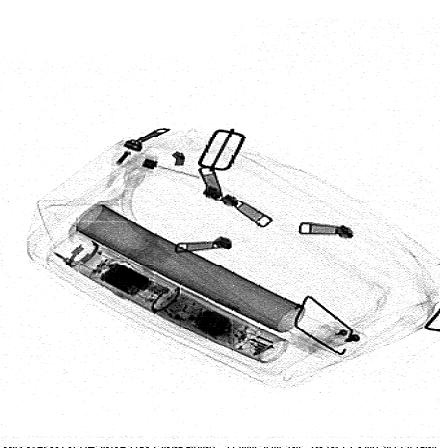Baton: (63, 240, 291, 365)
